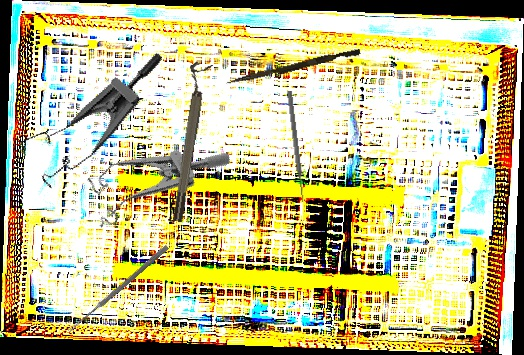Fixation Ring: (163, 61, 213, 223)
Pusher: (225, 45, 361, 90), (285, 90, 307, 203)
Speculum: (6, 15, 167, 206), (74, 108, 233, 240)
Surgical Spoon: (66, 244, 170, 334)
